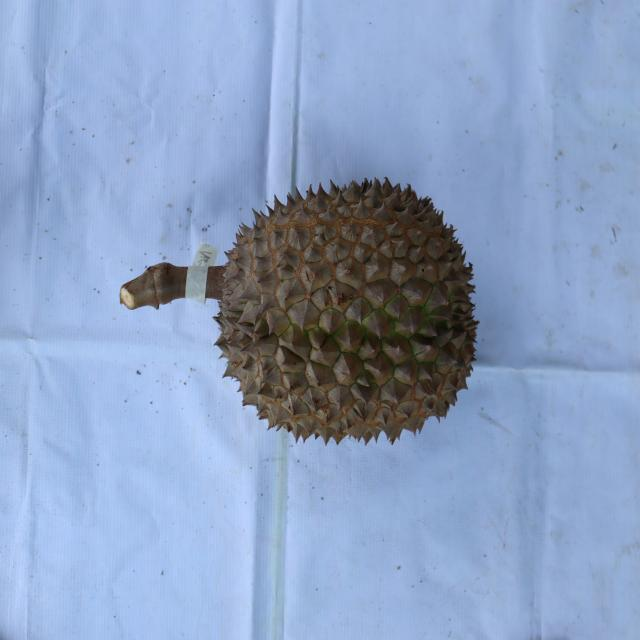mature: (215, 172, 481, 447)
